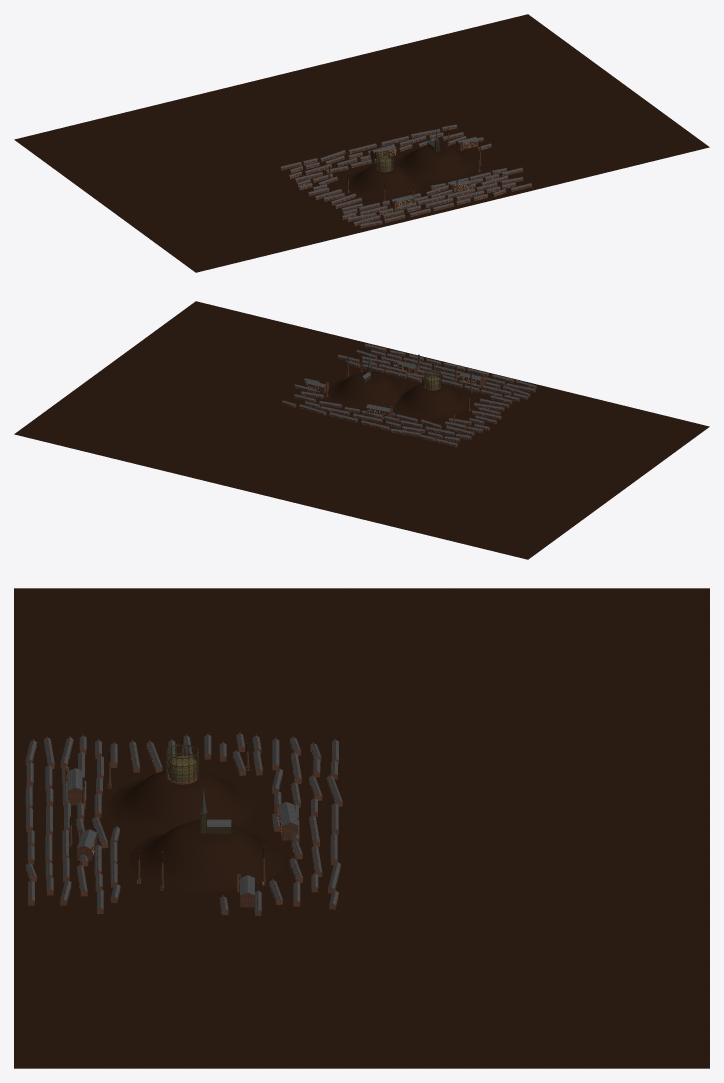
Rendered from works-set-town.glb.
The picture shows the model from 3 angles, top to bottom: view 1: azimuth 30°, elevation 25°; view 2: azimuth 150°, elevation 25°; view 3: azimuth 270°, elevation 25°; orthographic projection. The views are drawn at different scales.
Parts seen in each view (by area): view 1: far-town-cinder-ground; view 2: far-town-cinder-ground; view 3: far-town-cinder-ground, far-town-gasholder-frame-and-bell.
Boxes of the visible parts, bbox=[...] form: far-town-cinder-ground: bbox=[14, 14, 709, 272]; far-town-cinder-ground: bbox=[14, 301, 709, 559]; far-town-cinder-ground: bbox=[14, 588, 709, 1068]; far-town-gasholder-frame-and-bell: bbox=[166, 744, 198, 784].
Bounding box in the file's own units: 1400 × 97.75 × 858.
10 materials, 10 textured.
